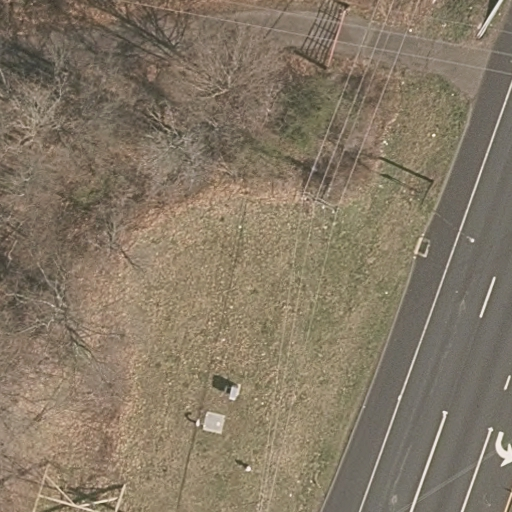DT: (295, 179, 349, 224)
